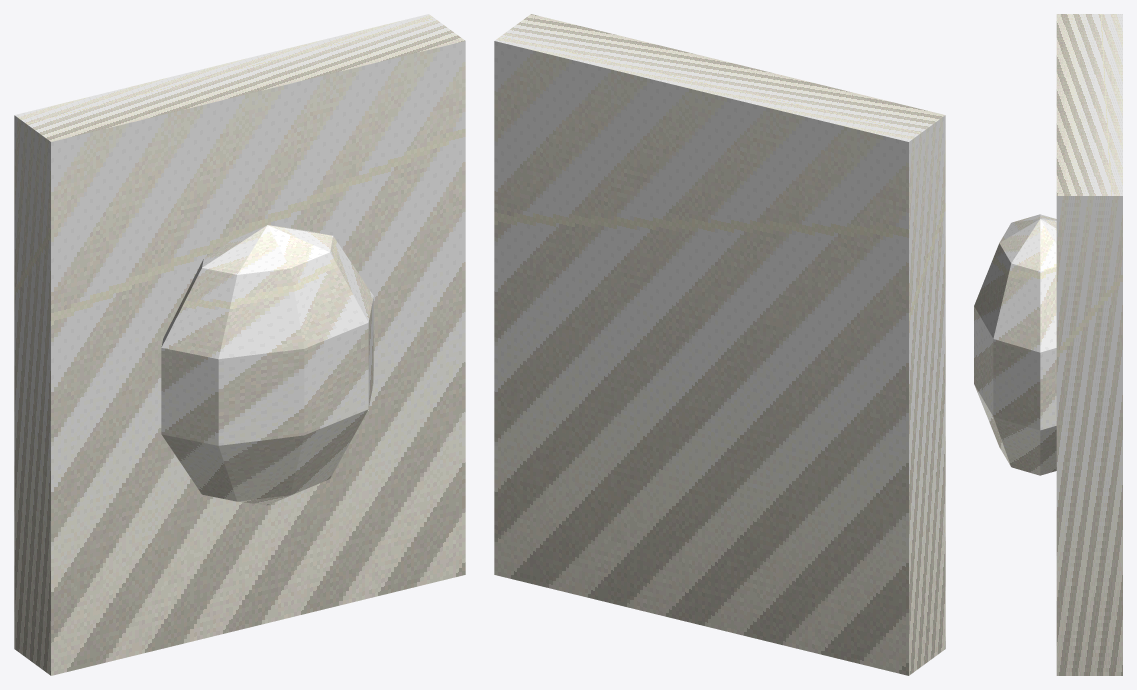
Rendered from reliquia_sagrada_08.glb.
3 renders of one model, left to right at view 1: azimuth 30°, elevation 25°; view 2: azimuth 150°, elevation 25°; view 3: azimuth 270°, elevation 25°, orthographic. The views are drawn at different scales.
Visible parts, largest first — view 1: reliquia_sagrada_08; view 2: reliquia_sagrada_08; view 3: reliquia_sagrada_08.
Part boxes in pixels (bbox=[...]): reliquia_sagrada_08: bbox=[14, 14, 465, 675]; reliquia_sagrada_08: bbox=[494, 14, 945, 675]; reliquia_sagrada_08: bbox=[974, 14, 1122, 675].
Bounding box in the file's own units: 0.52 × 0.64 × 0.1799.
Materials: 1 (1 with a texture image).
